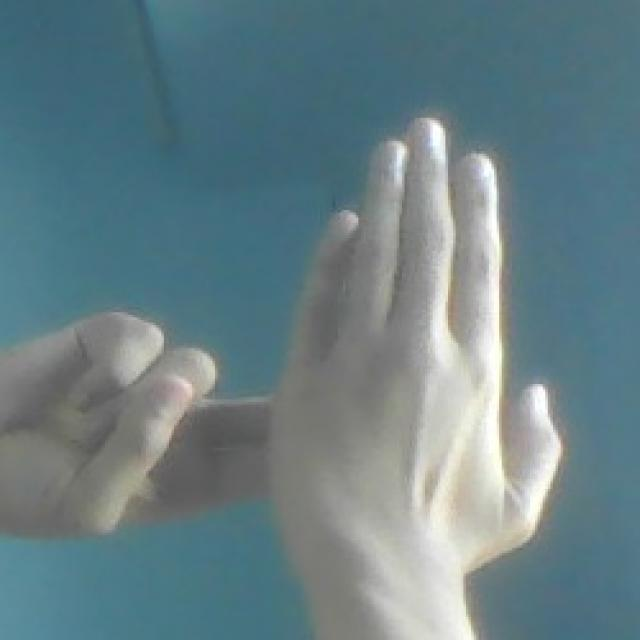Alphabet-N: (0, 104, 560, 587)
